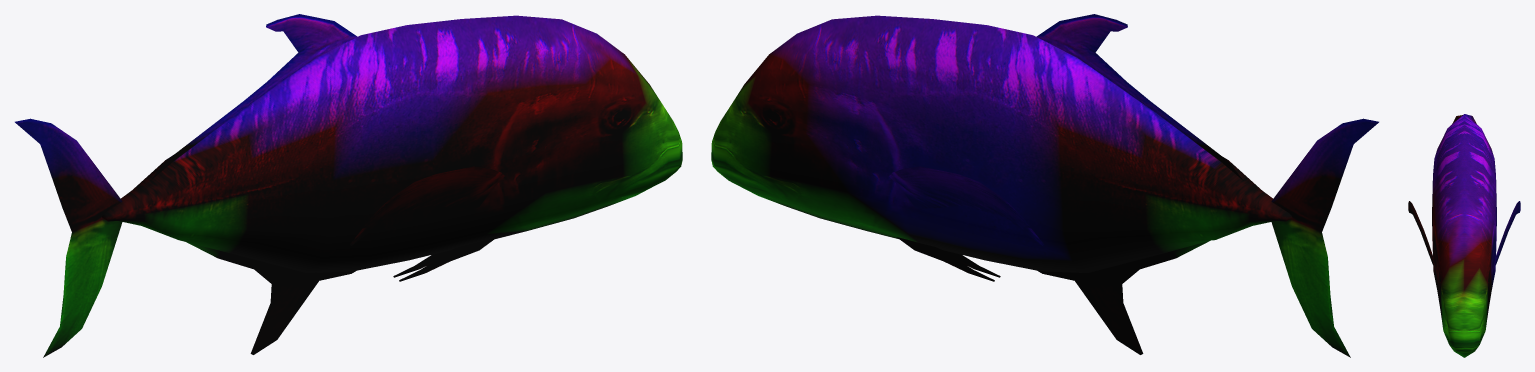
Rendered from giant_trevally.glb.
3 views of the same model, side by side, from view 1: azimuth 30°, elevation 25°; view 2: azimuth 150°, elevation 25°; view 3: azimuth 270°, elevation 25° (orthographic). The views are drawn at different scales.
Parts seen in each view (by area): view 1: GiantTrevally; view 2: GiantTrevally; view 3: GiantTrevally.
Part boxes in pixels (x1,y1,x2,y2): GiantTrevally: (15,14,682,357); GiantTrevally: (711,14,1378,357); GiantTrevally: (1408,114,1520,357).
Size of the model in its own units: 1 by 0.4749 by 0.2269.
Materials: 1 (1 with a texture image).
